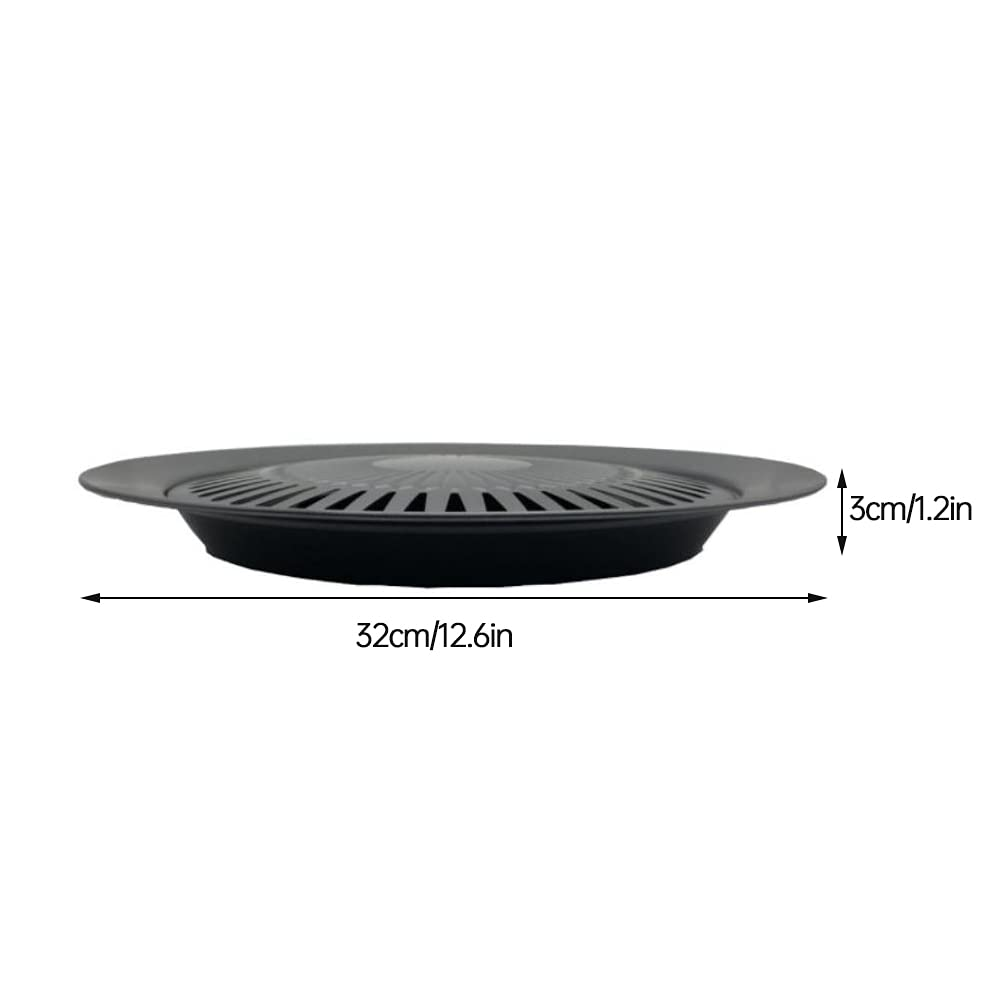32cm/12.6in: (356, 620, 512, 650)
3cm/1.2in: (850, 493, 972, 523)
